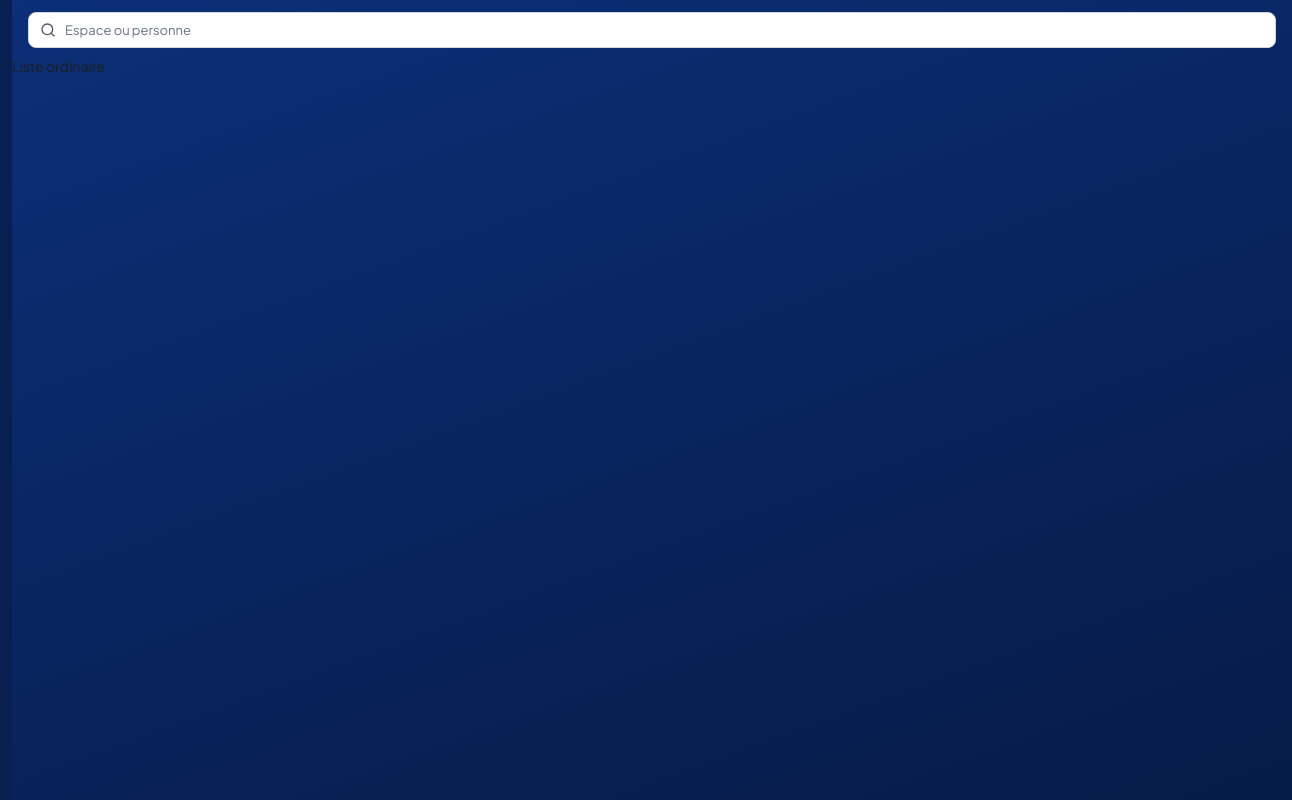
it: recherche des salons et messages › groupe les espaces puis les personnes, et rend la liste quand le champ est vidé
expect the text "Liste ordinaire" is shown: met, box [12, 57, 105, 75]
Type "awa" into the search field.
click(652, 30); type("awa")  # box [28, 12, 1276, 48]
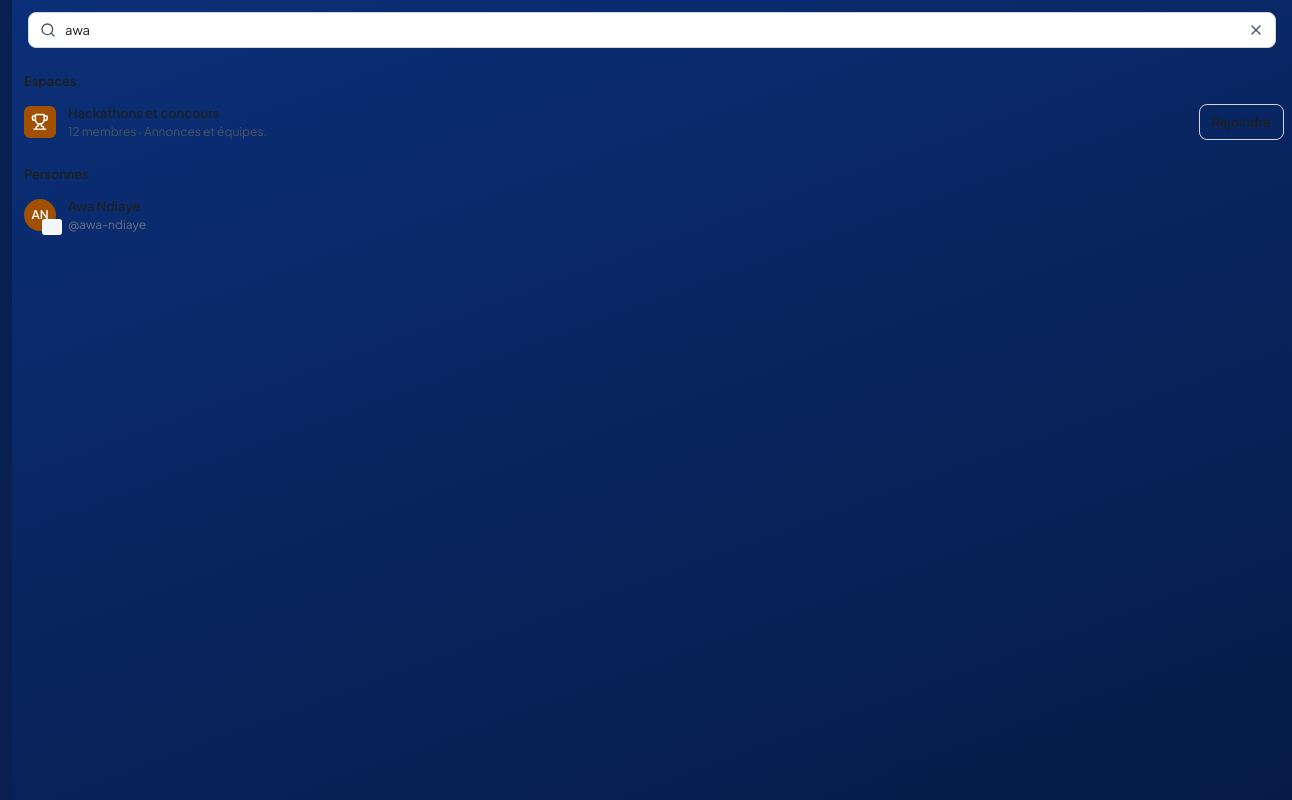
expect the text "Hackathons et concours" is shown: met, box [68, 104, 219, 120]
expect the text "Awa Ndiaye" is shown: met, box [68, 196, 140, 216]
expect the text "Liste ordinaire" is gone: met
Click the button named "Effacer la recherche".
click(1256, 30)  # box [1240, 14, 1272, 46]
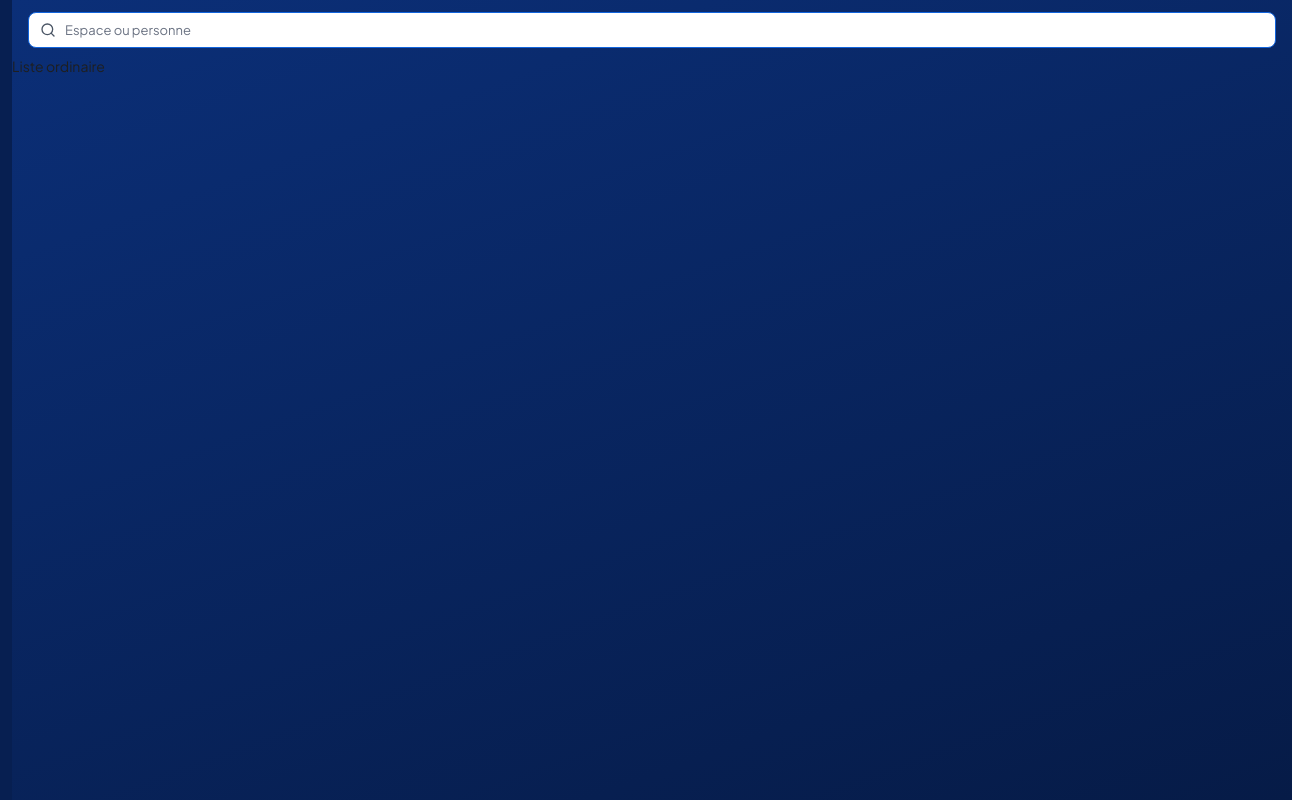
expect the text "Liste ordinaire" is shown: met, box [12, 57, 105, 75]
